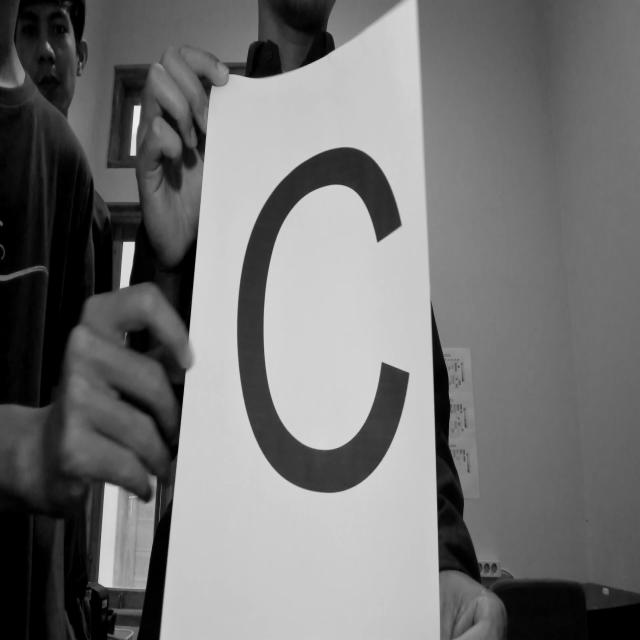c: (232, 144, 416, 554)
